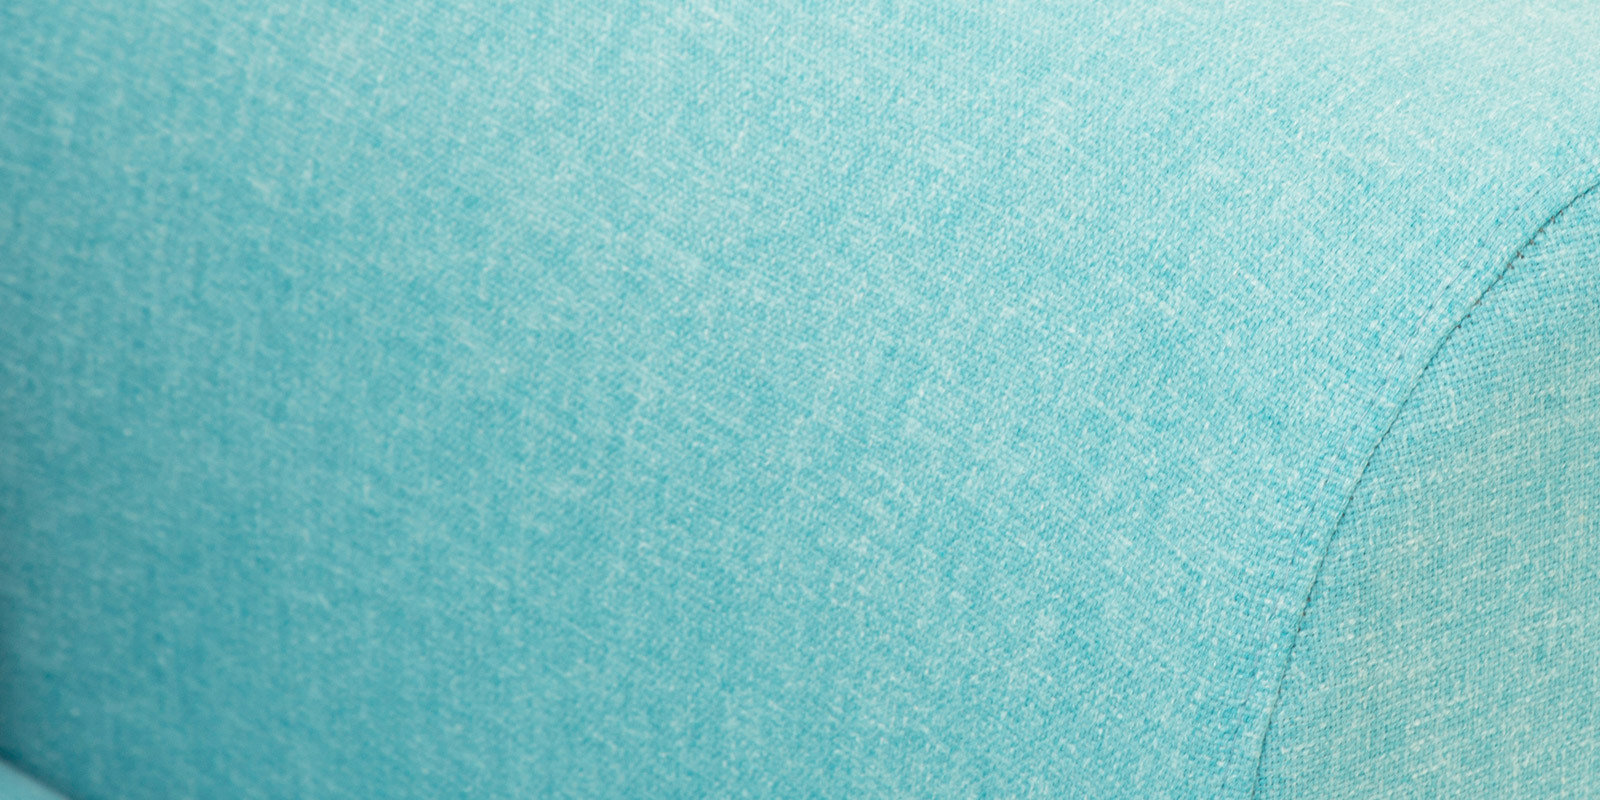Iowa Three Seater Sofa in Celeste Blue Colour by Furnitech: (2, 1, 1596, 799)
